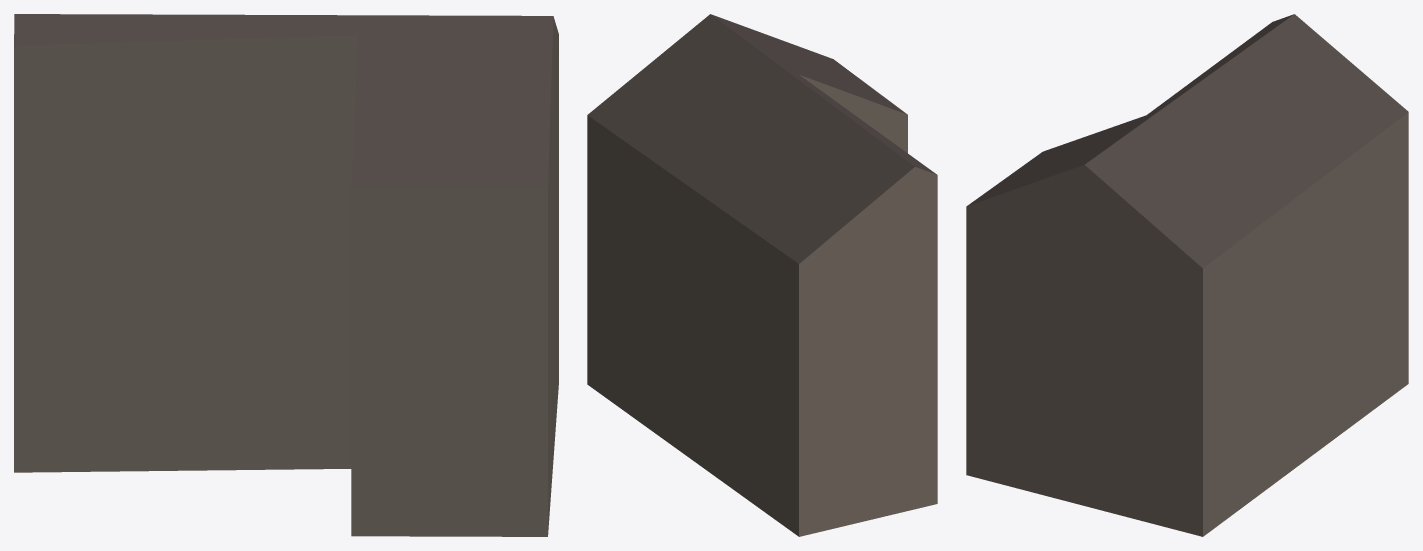
3 renders of one model, left to right at view 1: azimuth 30°, elevation 25°; view 2: azimuth 150°, elevation 25°; view 3: azimuth 270°, elevation 25°, orthographic. The views are drawn at different scales.
Parts seen in each view (by area): view 1: HP-w505643546; view 2: HP-w505643546; view 3: HP-w505643546.
Boxes of the visible parts, x1,y1,x2,y2 form: HP-w505643546: [14, 14, 558, 536]; HP-w505643546: [587, 14, 937, 536]; HP-w505643546: [966, 14, 1408, 536].
Size of the model in its own units: 13.46 by 11.44 by 13.45.
